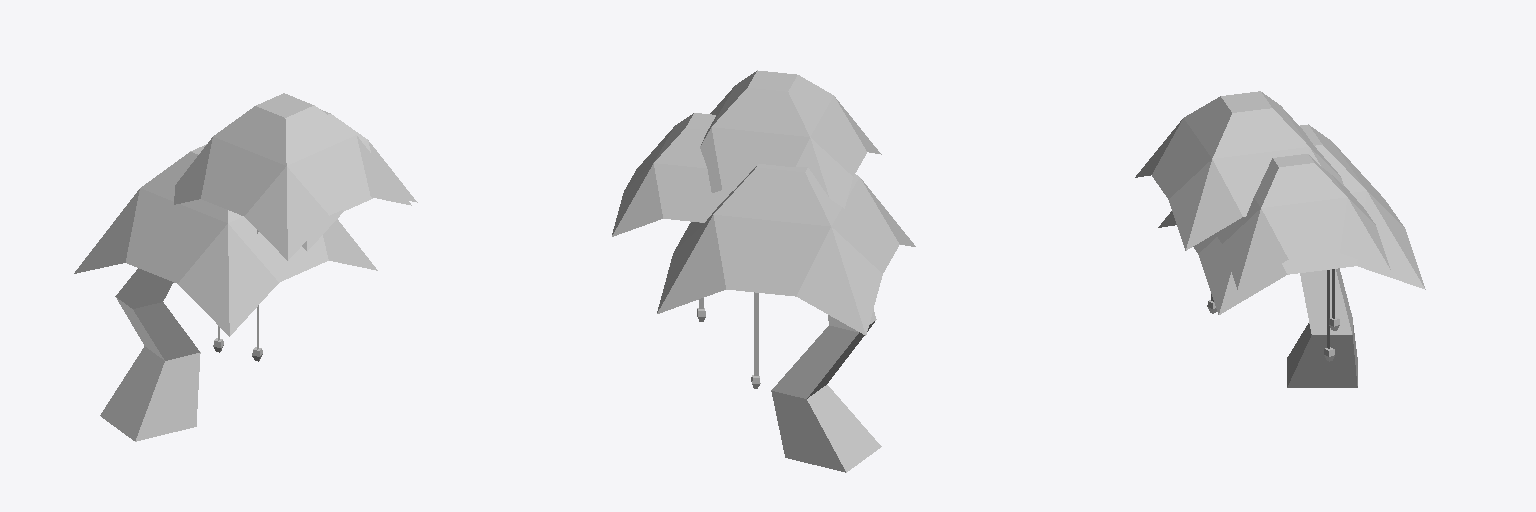
The model's file is svetjaschijsja_oduvanchik_003.obj.
3 renders of one model, left to right at view 1: azimuth 30°, elevation 25°; view 2: azimuth 150°, elevation 25°; view 3: azimuth 270°, elevation 25°, orthographic.
Visible parts, largest first — view 1: Светящийся_одуванчик.003; view 2: Светящийся_одуванчик.003; view 3: Светящийся_одуванчик.003.
Part boxes in pixels (x1,y1,x2,y2): Светящийся_одуванчик.003: (74,93,417,441); Светящийся_одуванчик.003: (612,70,915,472); Светящийся_одуванчик.003: (1135,91,1425,387).
Size of the model in its own units: 4.01 by 4.36 by 3.61.